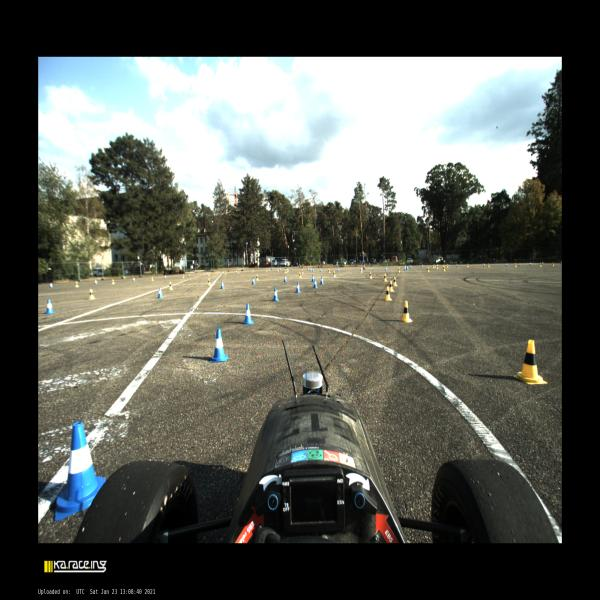blue_cone: (54, 422, 106, 521), (210, 328, 227, 362), (243, 303, 254, 324), (45, 299, 55, 314), (272, 288, 279, 302), (158, 287, 164, 298), (220, 281, 225, 289), (296, 282, 300, 292), (311, 274, 315, 282), (314, 279, 317, 288), (320, 276, 323, 284), (252, 277, 255, 284), (284, 275, 287, 282), (50, 282, 53, 288), (94, 280, 98, 284), (133, 278, 135, 282), (320, 268, 322, 272), (385, 267, 387, 271), (406, 266, 408, 270), (404, 266, 406, 270), (312, 268, 314, 272), (164, 275, 166, 278), (421, 264, 423, 267), (310, 268, 312, 271), (410, 264, 411, 268), (456, 263, 457, 267), (188, 274, 190, 276), (207, 272, 208, 276), (222, 272, 224, 274), (268, 269, 270, 271), (338, 268, 339, 271), (506, 263, 507, 266), (519, 263, 520, 266), (542, 262, 543, 265), (303, 267, 304, 270), (280, 268, 281, 271), (235, 270, 236, 273), (253, 269, 254, 272), (530, 263, 531, 265), (310, 268, 311, 270), (484, 263, 484, 266), (308, 268, 308, 270), (292, 268, 292, 270)
yellow_cone: (513, 340, 547, 384), (402, 300, 412, 322), (88, 288, 96, 300), (388, 280, 395, 292), (386, 286, 392, 300), (392, 277, 398, 286), (169, 281, 173, 290), (207, 278, 211, 286), (383, 274, 387, 282), (298, 272, 302, 279), (111, 278, 115, 284), (75, 282, 79, 288), (333, 270, 336, 277), (369, 272, 372, 279), (514, 262, 517, 268), (151, 276, 154, 281), (360, 268, 363, 273), (466, 263, 469, 268), (256, 274, 258, 281), (328, 268, 330, 274), (398, 267, 400, 273), (443, 266, 445, 272), (427, 267, 429, 272), (488, 263, 490, 268), (436, 265, 438, 269), (432, 264, 434, 268), (552, 262, 554, 266), (287, 268, 289, 272), (266, 268, 268, 272), (302, 270, 304, 274), (208, 273, 210, 276), (284, 270, 286, 272), (237, 271, 239, 273), (225, 271, 226, 275), (183, 274, 184, 278), (540, 263, 541, 266), (447, 264, 448, 267), (286, 270, 287, 273), (251, 270, 252, 272), (278, 268, 278, 272)
